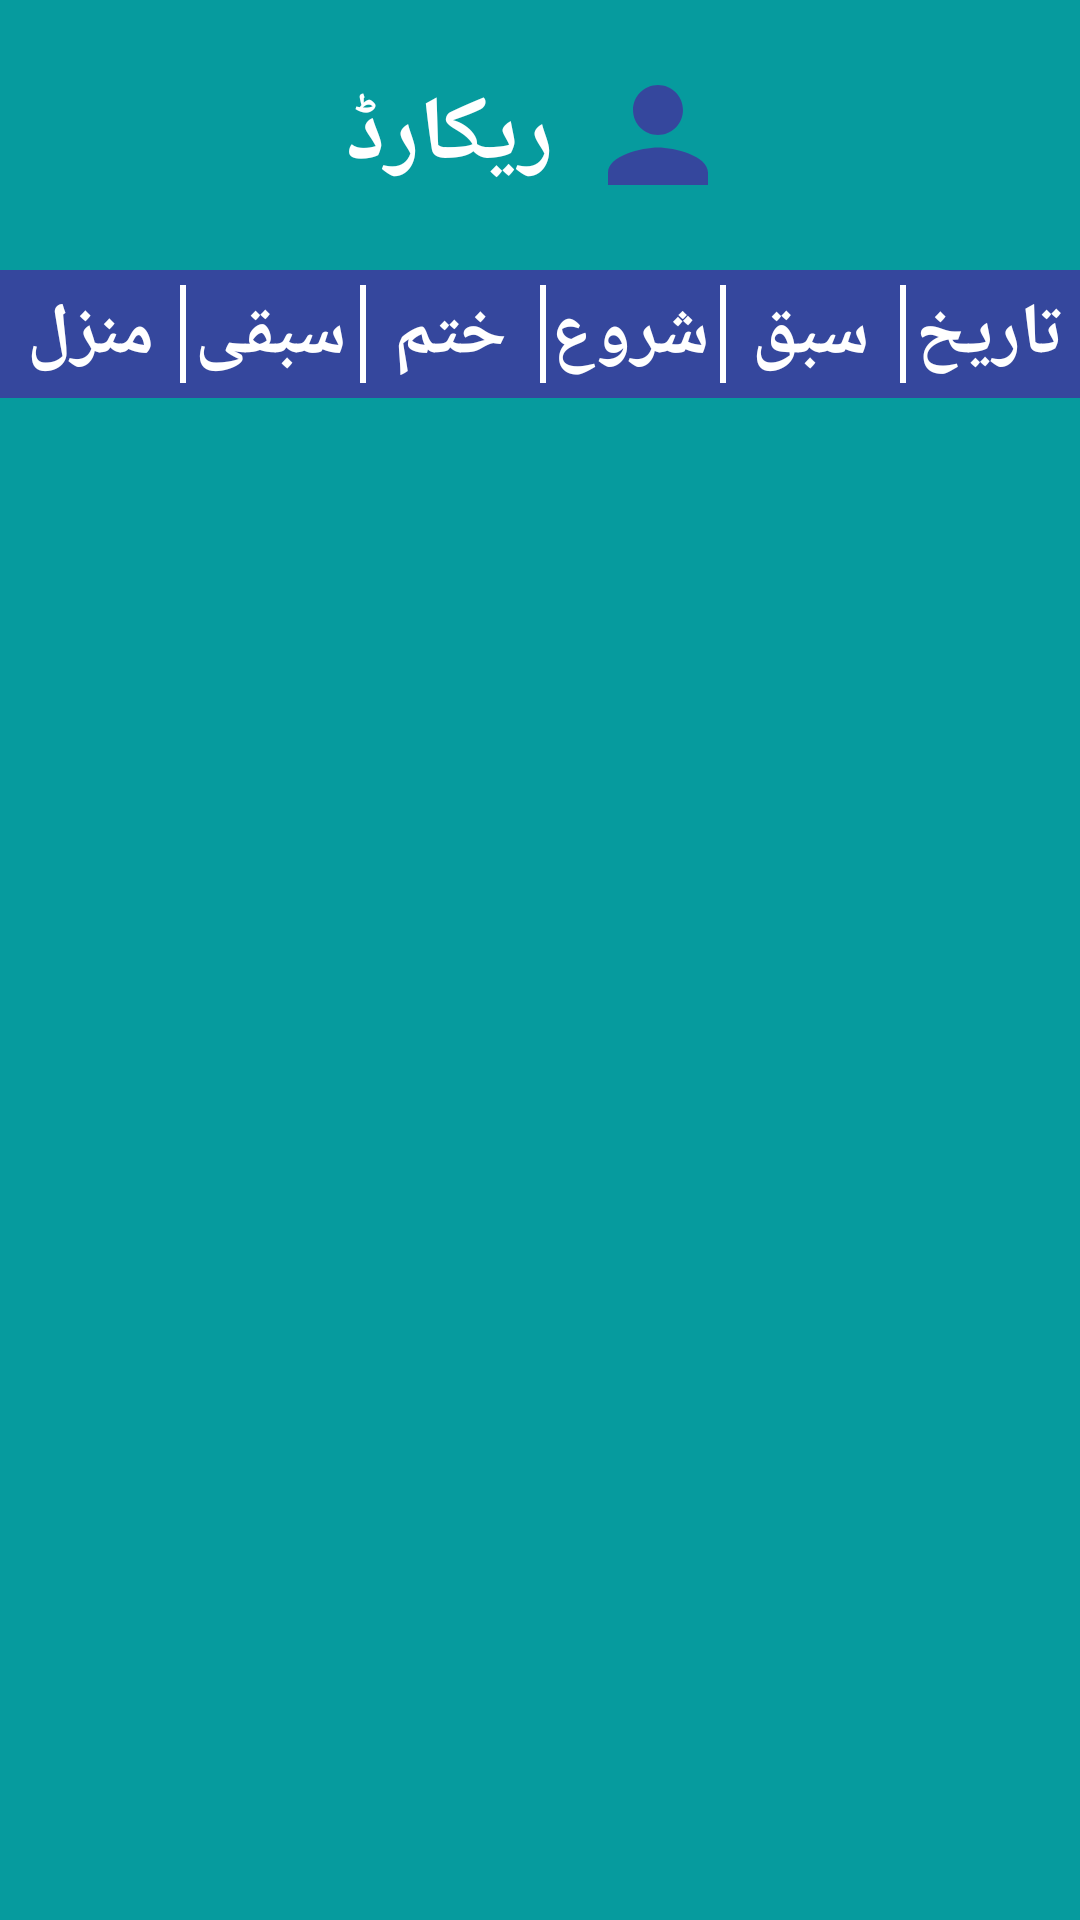

Named icons in this screenshot (1080 x 1920) and their centers, point (x, y):
نیا شاگرد: point (658, 135)
